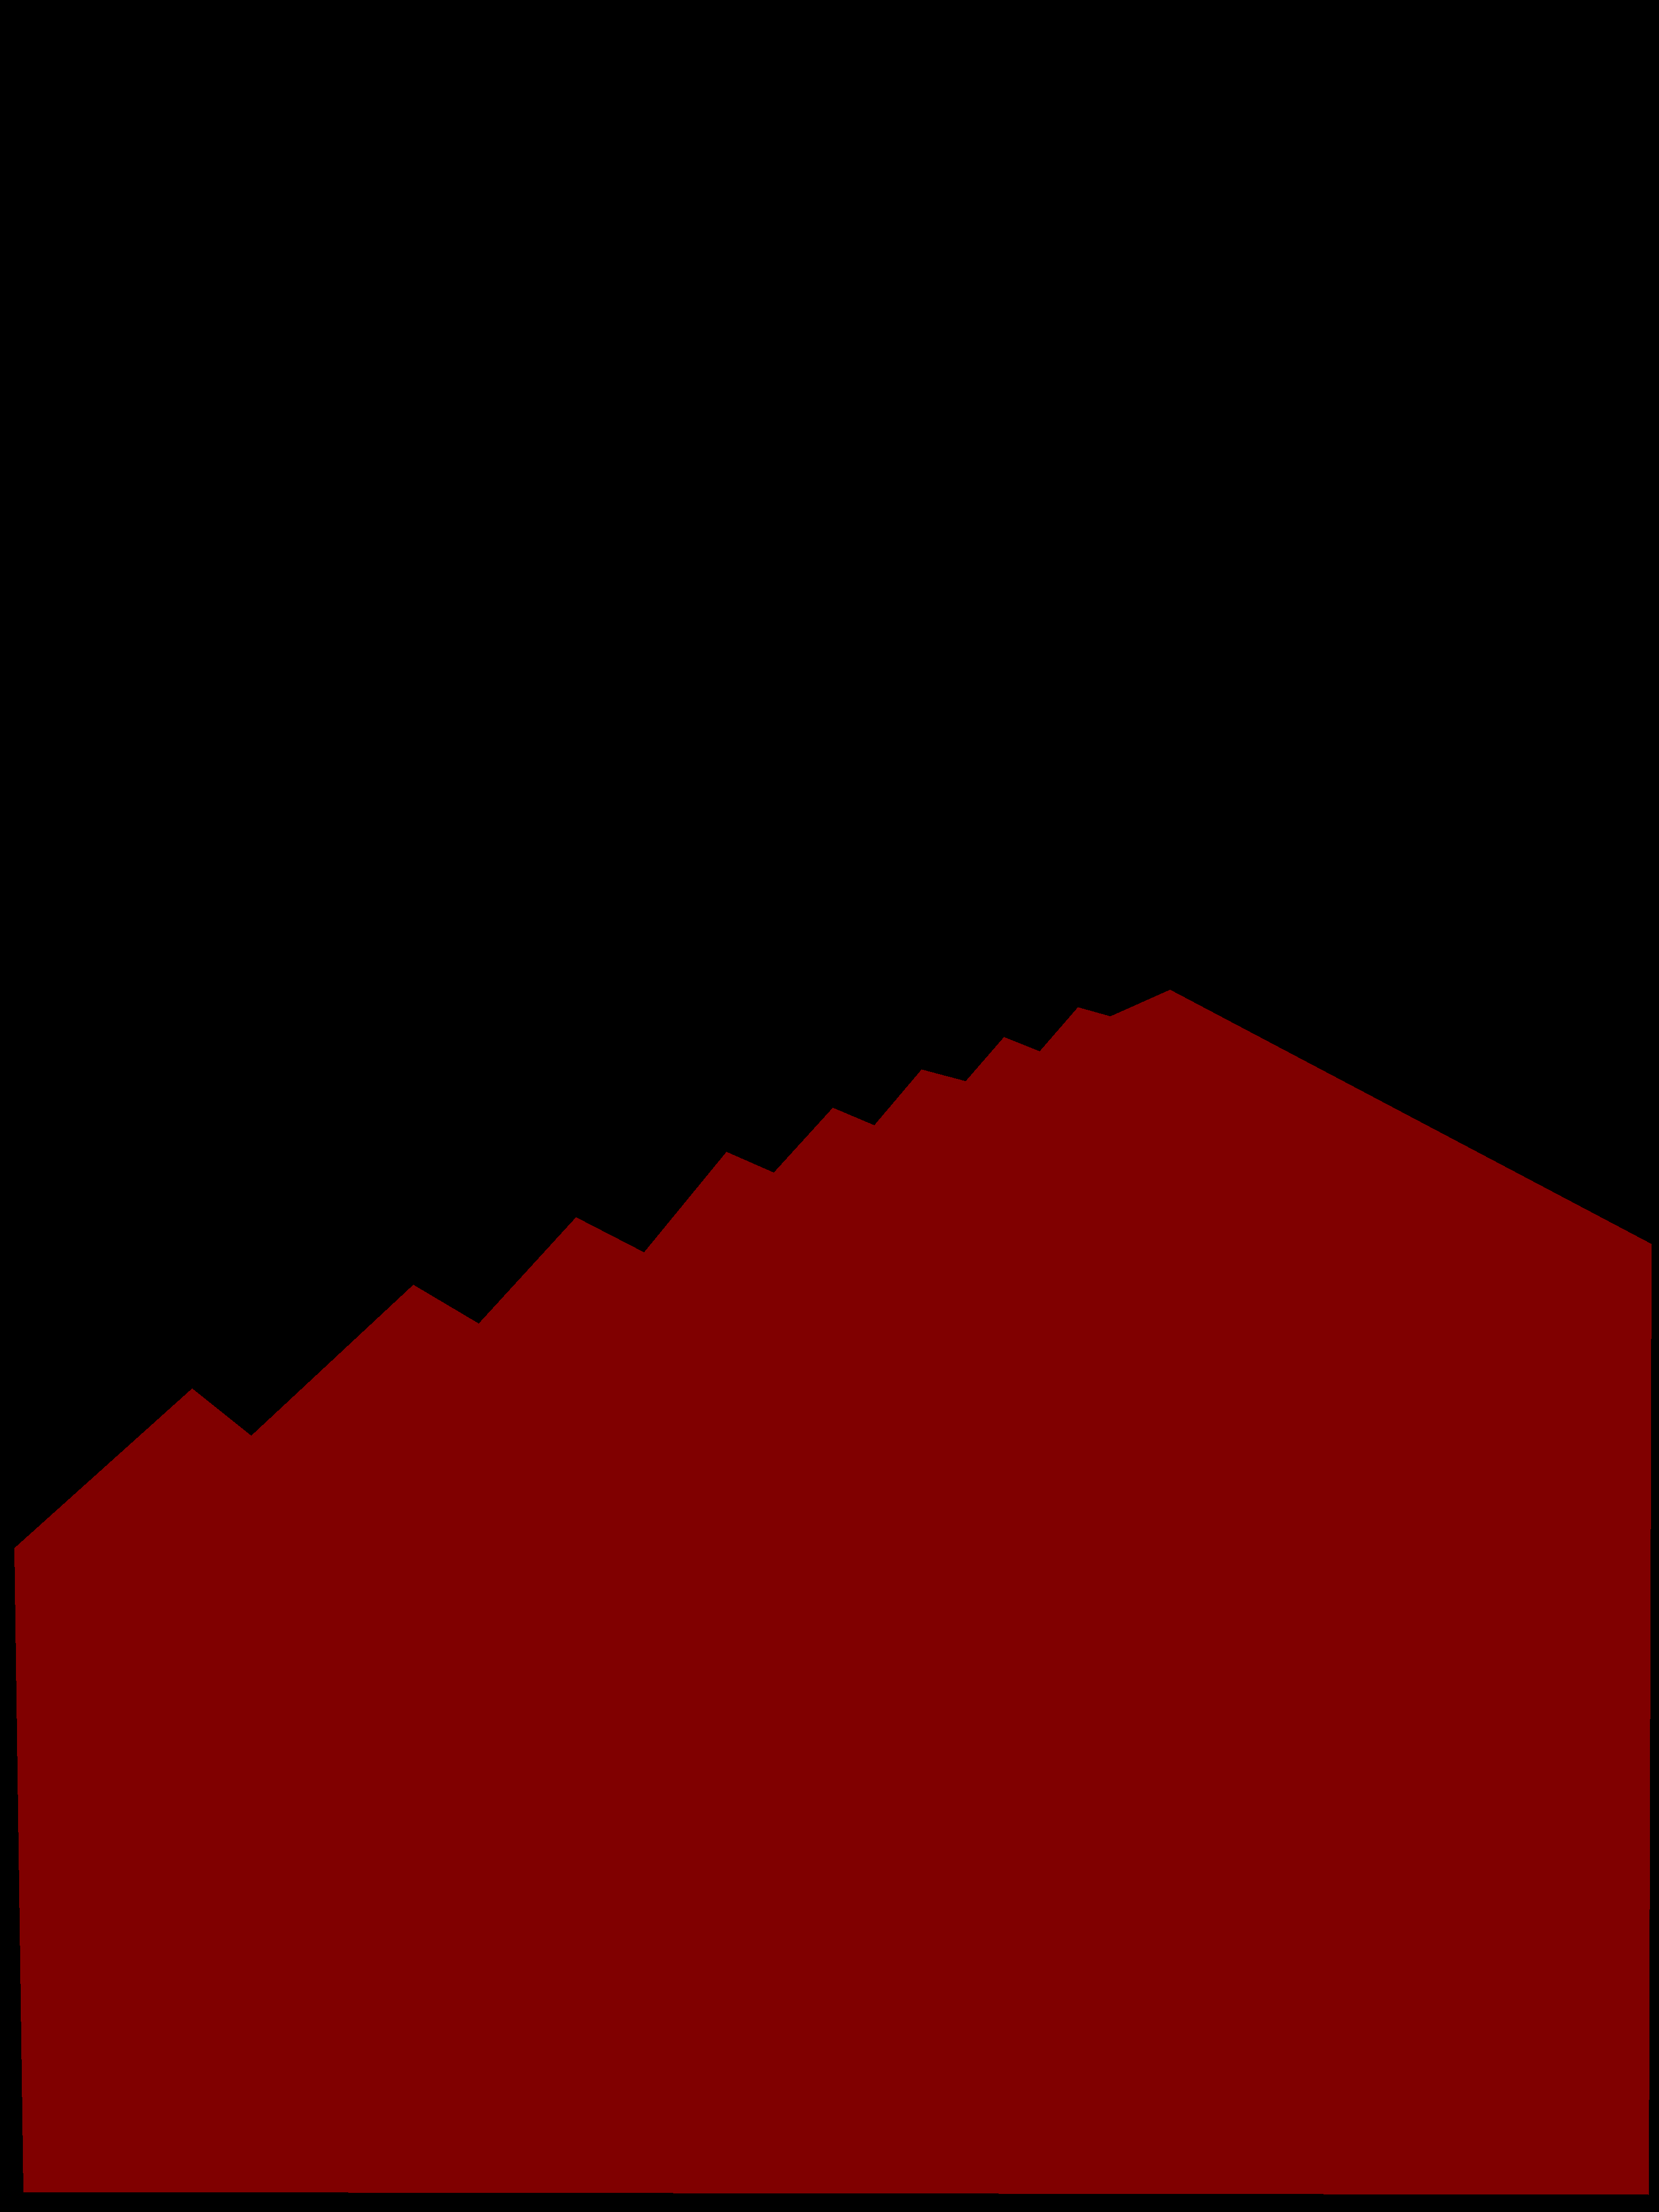stair: (14, 989, 1650, 2195)
